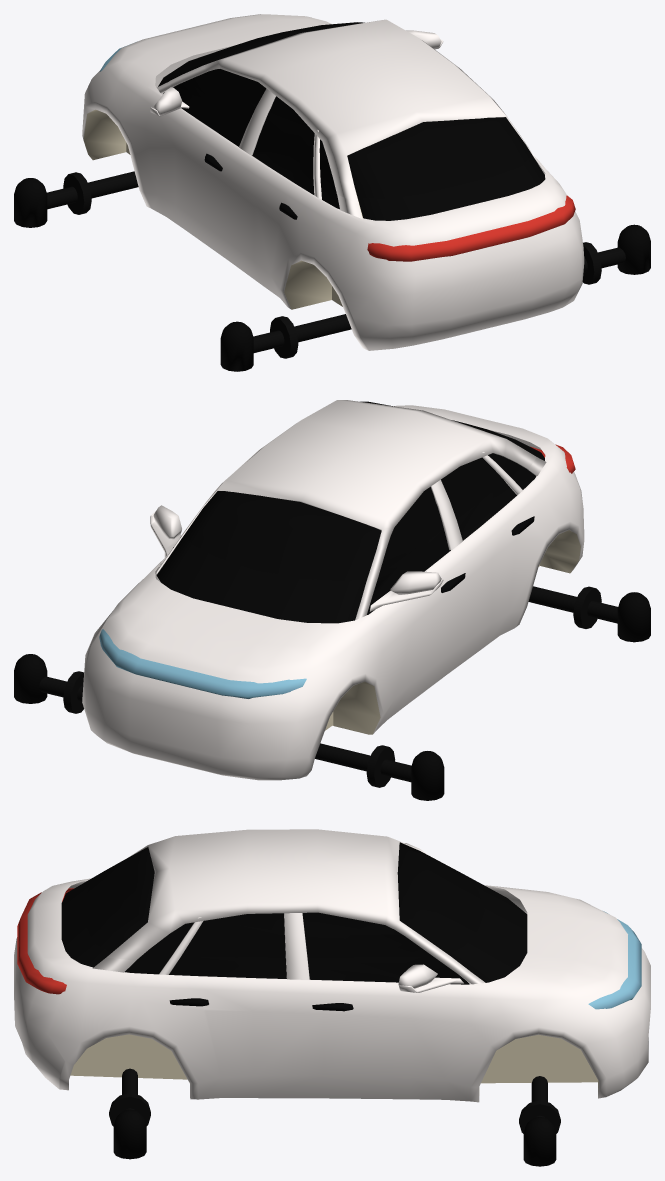
File: Car2.fbx
3 views of the same model, one above another, from view 1: azimuth 30°, elevation 25°; view 2: azimuth 150°, elevation 25°; view 3: azimuth 270°, elevation 25° (orthographic).
Parts seen in each view (by area): view 1: Car2, Dron, Rail; view 2: Car2, Dron, Rail; view 3: Car2, Dron, Rail.
Boxes of the visible parts, x1=… form: Car2: x1=82, y1=14, x2=584, y2=350; Dron: x1=14, y1=172, x2=650, y2=371; Rail: x1=63, y1=171, x2=601, y2=358; Car2: x1=82, y1=400, x2=584, y2=780; Dron: x1=14, y1=586, x2=650, y2=800; Rail: x1=63, y1=586, x2=601, y2=787; Car2: x1=14, y1=829, x2=650, y2=1102; Dron: x1=113, y1=1068, x2=556, y2=1166; Rail: x1=109, y1=1068, x2=560, y2=1133.
Size of the model in its own units: 2965 by 1374 by 3872.
Materials: 1 (1 with a texture image).
